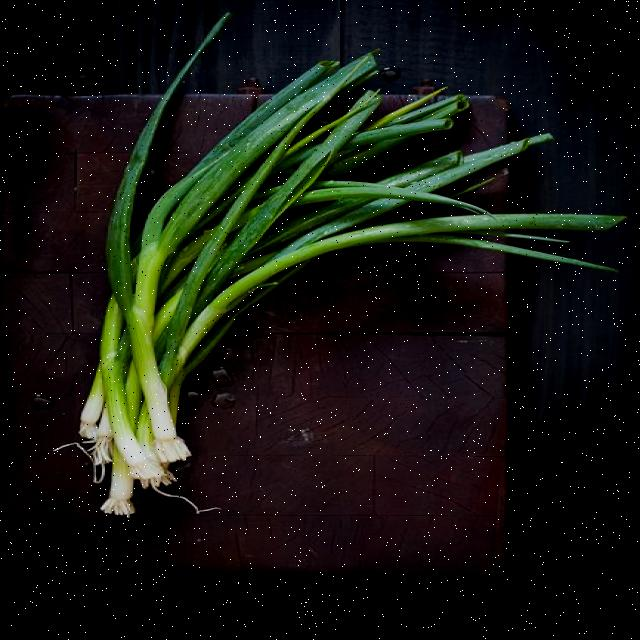Onion Leaves: (44, 36, 640, 328)
